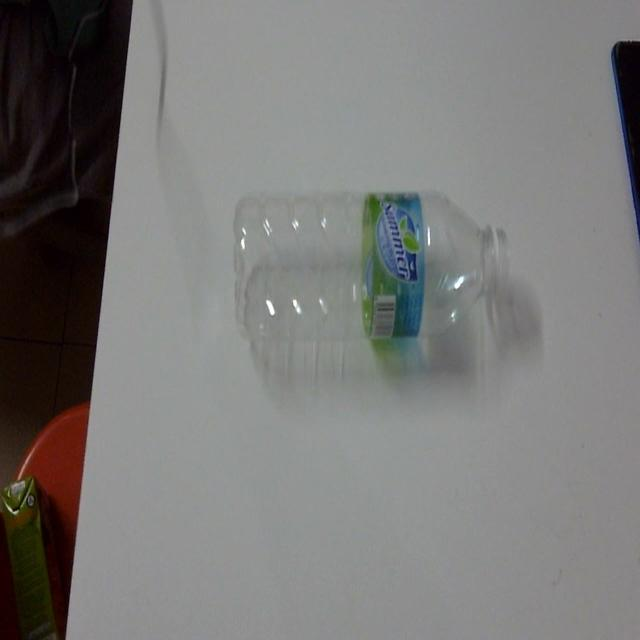plastic_laydown_0rotation: (225, 170, 518, 369)
